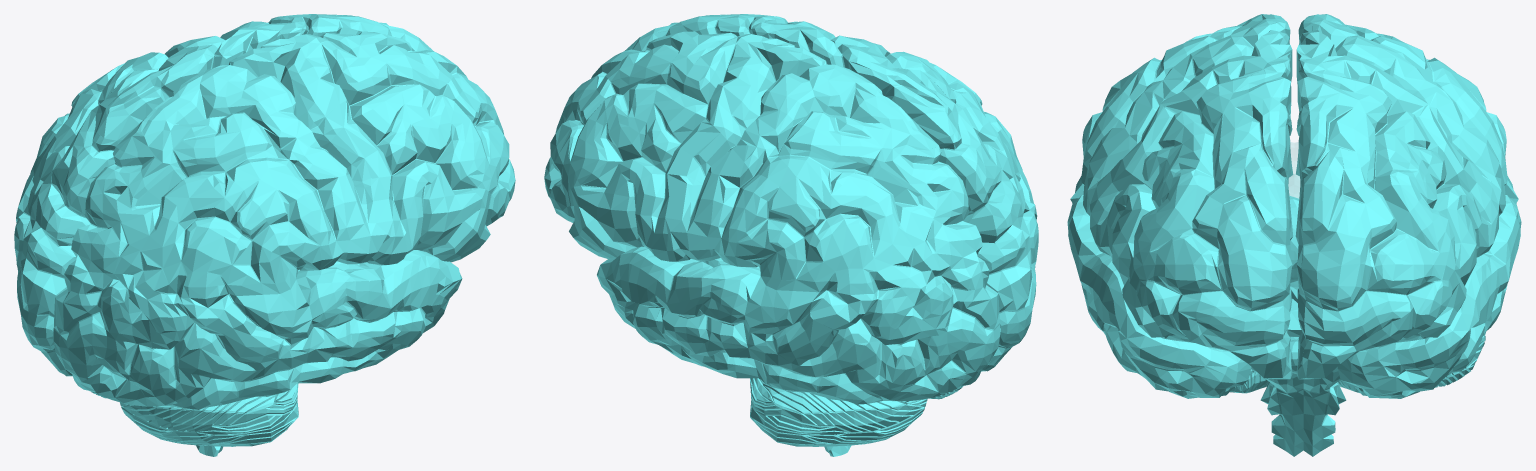
Rendered from fix_brain.glb.
3 renders of one model, left to right at view 1: azimuth 30°, elevation 25°; view 2: azimuth 150°, elevation 25°; view 3: azimuth 270°, elevation 25°, orthographic. The views are drawn at different scales.
Visible parts, largest first — view 1: frontal1; view 2: frontal1; view 3: frontal1.
Part boxes in pixels (x1,y1,x2,y2): frontal1: (14,14,515,456); frontal1: (544,14,1038,456); frontal1: (1067,14,1521,456).
Bounding box in the file's own units: 249 × 217 × 204.
